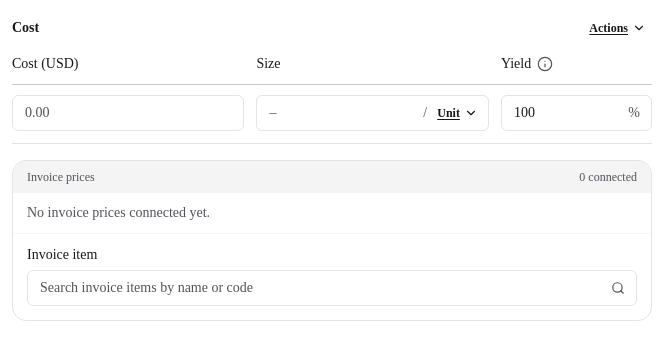
it: ingredient profile layouts › splits a unit typed into the amount into the dropdown beside it
Type "16lb" into the field named "Size".
click(340, 113); type("16lb")  # box top-left (257, 96), bottom-right (423, 130)
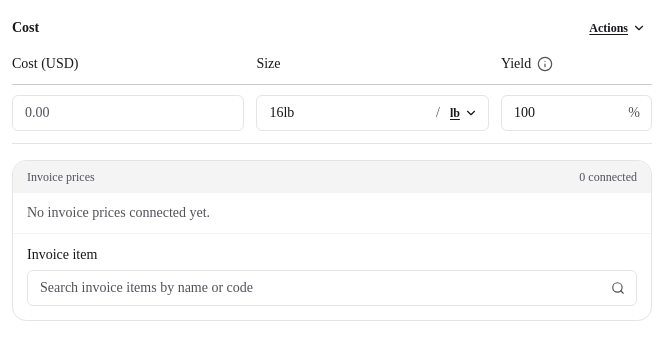
Leave the 1st field named "Size", box top-left (257, 96), bottom-right (436, 130)
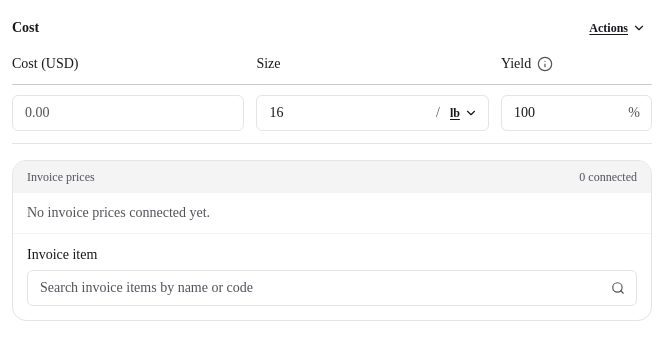
Expected: the button with aria-label "Size unit" reads "lb", top-left (444, 99), bottom-right (484, 127)
Expected: the 1st field named "Size" holds "16", top-left (257, 96), bottom-right (436, 130)
